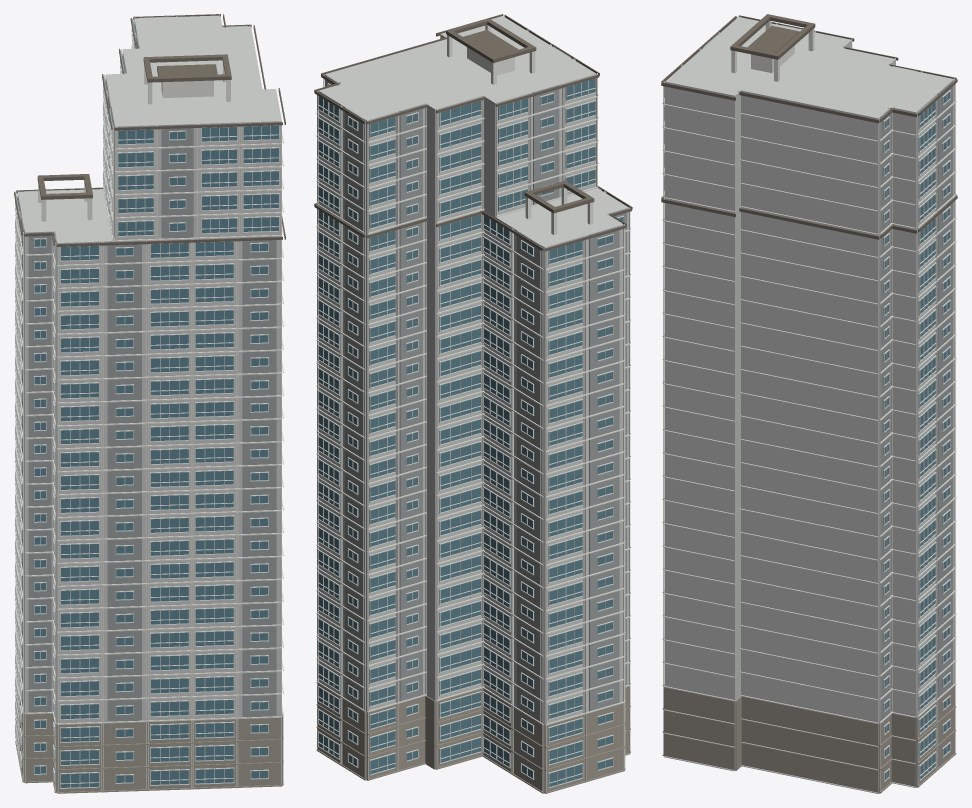
Rendered from bespoke-banpo-xi-101.glb.
3 renders of one model, left to right at view 1: azimuth 30°, elevation 25°; view 2: azimuth 150°, elevation 25°; view 3: azimuth 270°, elevation 25°, orthographic. The views are drawn at different scales.
Parts seen in each view (by area): view 1: BX101_editable_BX101_pale_silver_limestone003, BX101_editable_BX101_blue_grey_broad_glazing003, BX101_editable_BX101_grey_service_core003, BX101_editable_BX101_white_window_frames003, BX101_editable_BX101_ivory_course_bands003, BX101_editable_BX101_warm_ground_stone003, BX101_editable_BX101_dark_coping003; view 2: BX101_editable_BX101_pale_silver_limestone003, BX101_editable_BX101_blue_grey_broad_glazing003, BX101_editable_BX101_white_window_frames003, BX101_editable_BX101_grey_service_core003, BX101_editable_BX101_ivory_course_bands003, BX101_editable_BX101_warm_ground_stone003, BX101_editable_BX101_dark_coping003; view 3: BX101_editable_BX101_pale_silver_limestone003, BX101_editable_BX101_ivory_course_bands003, BX101_editable_BX101_warm_ground_stone003, BX101_editable_BX101_grey_service_core003, BX101_editable_BX101_white_window_frames003, BX101_editable_BX101_blue_grey_broad_glazing003, BX101_editable_BX101_dark_coping003.
Boxes of the visible parts, box(x1,y1,x2,y2) form: BX101_editable_BX101_pale_silver_limestone003: box(17, 15, 281, 791); BX101_editable_BX101_blue_grey_broad_glazing003: box(16, 22, 278, 787); BX101_editable_BX101_grey_service_core003: box(20, 16, 276, 722); BX101_editable_BX101_white_window_frames003: box(15, 22, 279, 788); BX101_editable_BX101_ivory_course_bands003: box(15, 14, 283, 793); BX101_editable_BX101_warm_ground_stone003: box(15, 695, 283, 793); BX101_editable_BX101_dark_coping003: box(14, 14, 285, 246); BX101_editable_BX101_pale_silver_limestone003: box(318, 16, 628, 779); BX101_editable_BX101_blue_grey_broad_glazing003: box(318, 79, 622, 786); BX101_editable_BX101_white_window_frames003: box(317, 78, 624, 788); BX101_editable_BX101_grey_service_core003: box(326, 46, 626, 721); BX101_editable_BX101_ivory_course_bands003: box(316, 15, 630, 793); BX101_editable_BX101_warm_ground_stone003: box(316, 683, 630, 793); BX101_editable_BX101_dark_coping003: box(314, 14, 632, 251); BX101_editable_BX101_pale_silver_limestone003: box(665, 17, 953, 792); BX101_editable_BX101_ivory_course_bands003: box(662, 16, 956, 793); BX101_editable_BX101_warm_ground_stone003: box(662, 686, 956, 793); BX101_editable_BX101_grey_service_core003: box(703, 25, 952, 720); BX101_editable_BX101_white_window_frames003: box(664, 82, 950, 782); BX101_editable_BX101_blue_grey_broad_glazing003: box(664, 87, 949, 780); BX101_editable_BX101_dark_coping003: box(661, 14, 957, 239).
Size of the model in its own units: 33.34 by 81.3 by 31.17.
